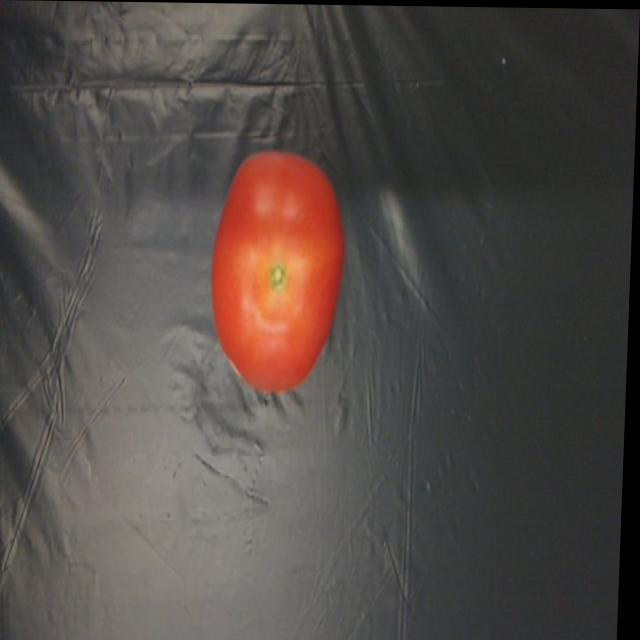yesil: (205, 134, 358, 416)
